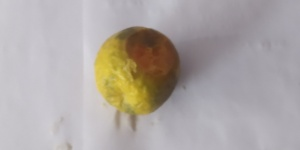BAD: (94, 24, 180, 115)
